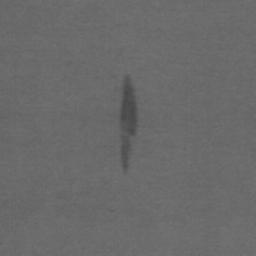Iron scale compression: (119, 76, 138, 171)
